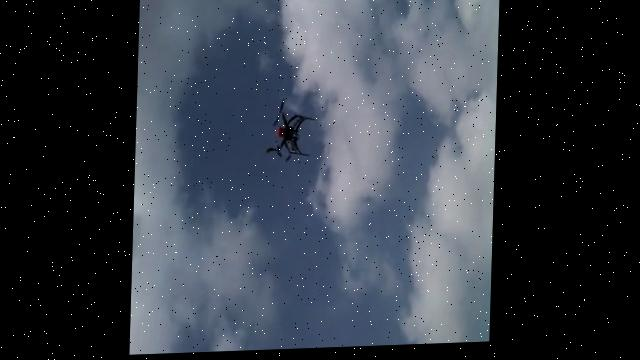drone: (263, 95, 319, 164)
